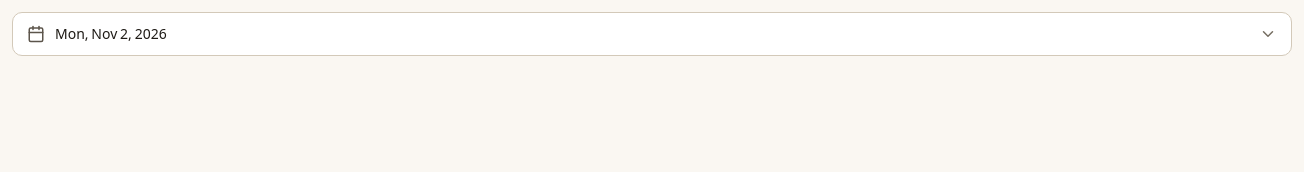
Redesigned UI Primitives (Phase 2) › DatePicker › closes on Escape and returns focus to trigger
Step 1. Click the button "Mon, Nov 2, 2026" → (111,34), box x1=12 y1=12 x2=1292 y2=56
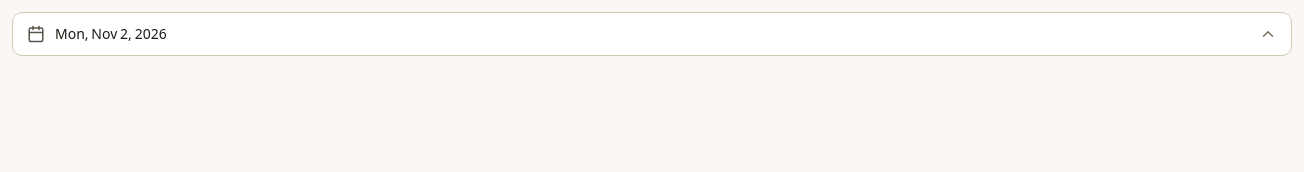
Expected: the button "Mon, Nov 2, 2026" is expanded
Press Escape on option
Step 2. Press Escape in the button "Mon, Nov 2, 2026", box x1=12 y1=12 x2=1292 y2=56
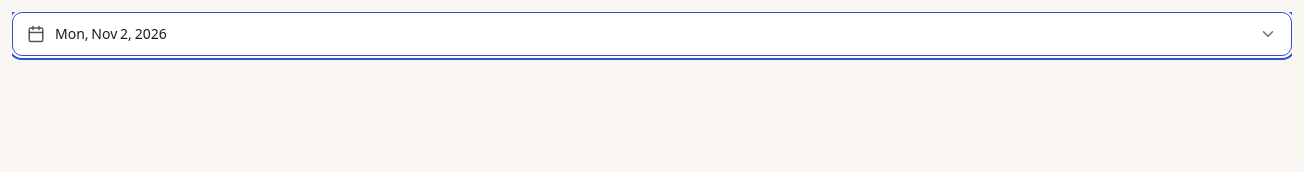
Expected: the button "Mon, Nov 2, 2026" is collapsed, x1=12 y1=12 x2=1292 y2=56
